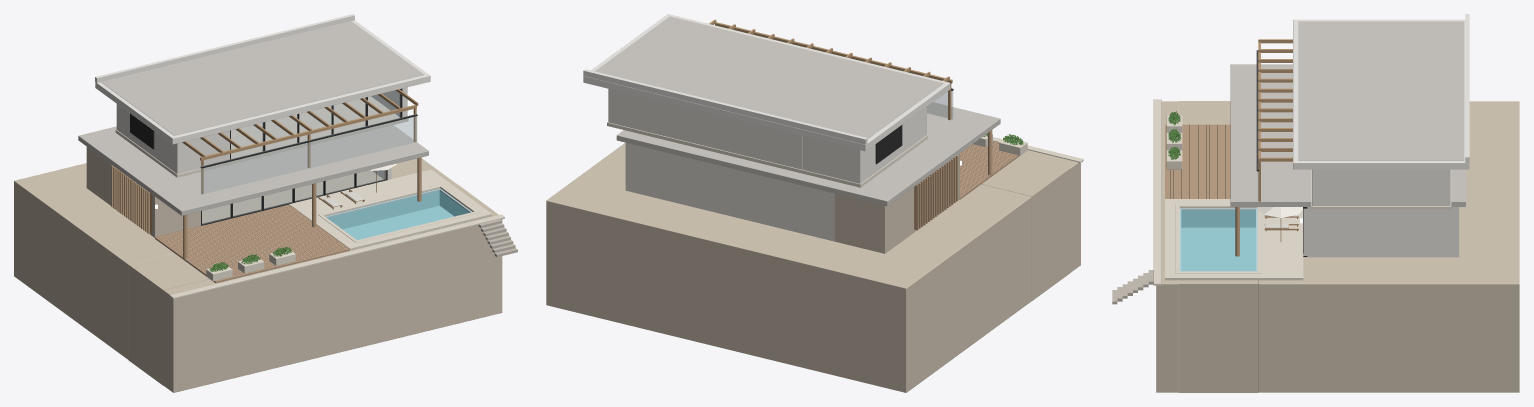
File: villa.glb
The picture shows the model from 3 angles, left to right: view 1: azimuth 30°, elevation 25°; view 2: azimuth 150°, elevation 25°; view 3: azimuth 270°, elevation 25°; orthographic projection. The views are drawn at different scales.
Parts seen in each view (by area): view 1: podium_front, podium_back, roof_gravel, slab, deck, balcony_glass, podium_w, band_upper, roof_slab, uf_glass, pool_water, uf_left (+14 smaller); view 2: podium_back, roof_gravel, gf_back, slab, uf_back, podium_w, roof_slab, gf_left, uf_left, roof_parapet_back, deck, podium_front (+3 smaller); view 3: podium_back, roof_gravel, podium_e, slab, gf_right, uf_right, deck, pool_water, podium_front, roof_slab, pool_floor, pool_deck_n (+11 smaller).
Part boxes in pixels (x1,y1,x2,y2): podium_front: [163, 210, 502, 392]; podium_back: [14, 158, 456, 359]; roof_gravel: [101, 21, 424, 135]; slab: [78, 125, 428, 215]; deck: [155, 204, 349, 283]; balcony_glass: [201, 114, 416, 194]; podium_w: [128, 253, 209, 385]; band_upper: [115, 96, 408, 177]; roof_slab: [95, 20, 430, 144]; uf_glass: [231, 89, 400, 158]; pool_water: [328, 191, 468, 239]; uf_left: [116, 104, 229, 173]; podium_back: [546, 143, 1031, 392]; roof_gravel: [595, 16, 943, 138]; gf_back: [626, 142, 834, 241]; slab: [616, 102, 1000, 206]; uf_back: [608, 89, 802, 169]; podium_w: [982, 156, 1070, 300]; roof_slab: [583, 14, 950, 151]; gf_left: [834, 153, 959, 253]; uf_left: [803, 107, 926, 183]; roof_parapet_back: [583, 69, 867, 144]; deck: [959, 141, 1019, 199]; podium_front: [1020, 150, 1080, 272]; podium_back: [1258, 101, 1519, 392]; roof_gravel: [1298, 21, 1464, 160]; podium_e: [1178, 280, 1258, 392]; slab: [1230, 64, 1465, 206]; gf_right: [1303, 207, 1459, 257]; uf_right: [1312, 169, 1443, 205]; deck: [1165, 124, 1230, 198]; pool_water: [1181, 211, 1255, 270]; podium_front: [1156, 101, 1178, 392]; roof_slab: [1293, 19, 1469, 169]; pool_floor: [1181, 227, 1255, 271]; pool_deck_n: [1262, 210, 1303, 280].
Bounding box in the file's own units: 25.2 × 14.6 × 23.55.
